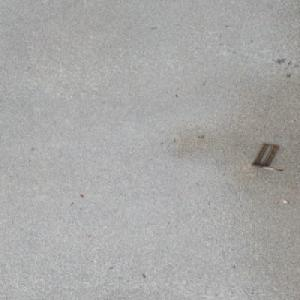MetalPart: (249, 142, 283, 171)
